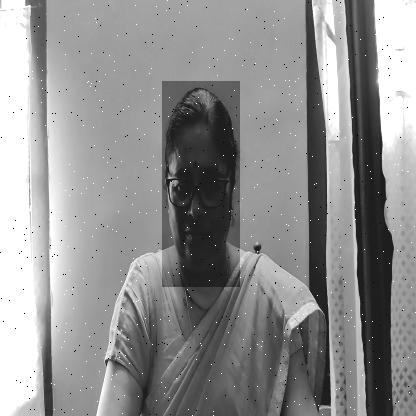Normal: (162, 81, 240, 287)
